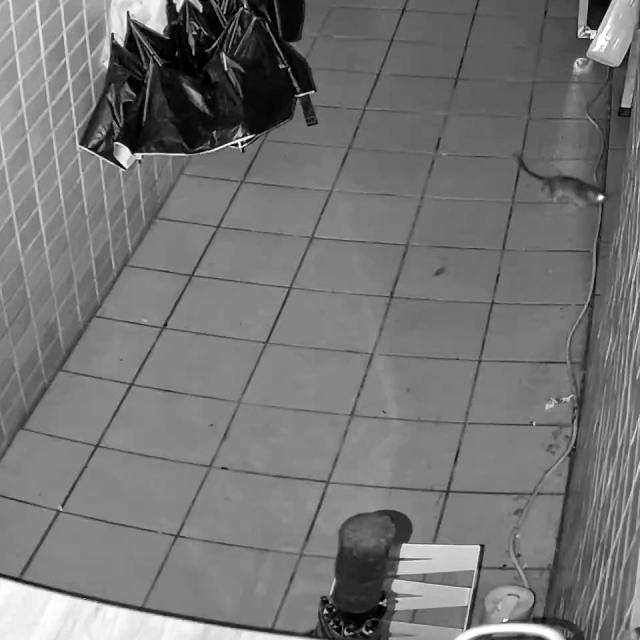rat: (513, 153, 609, 210)
